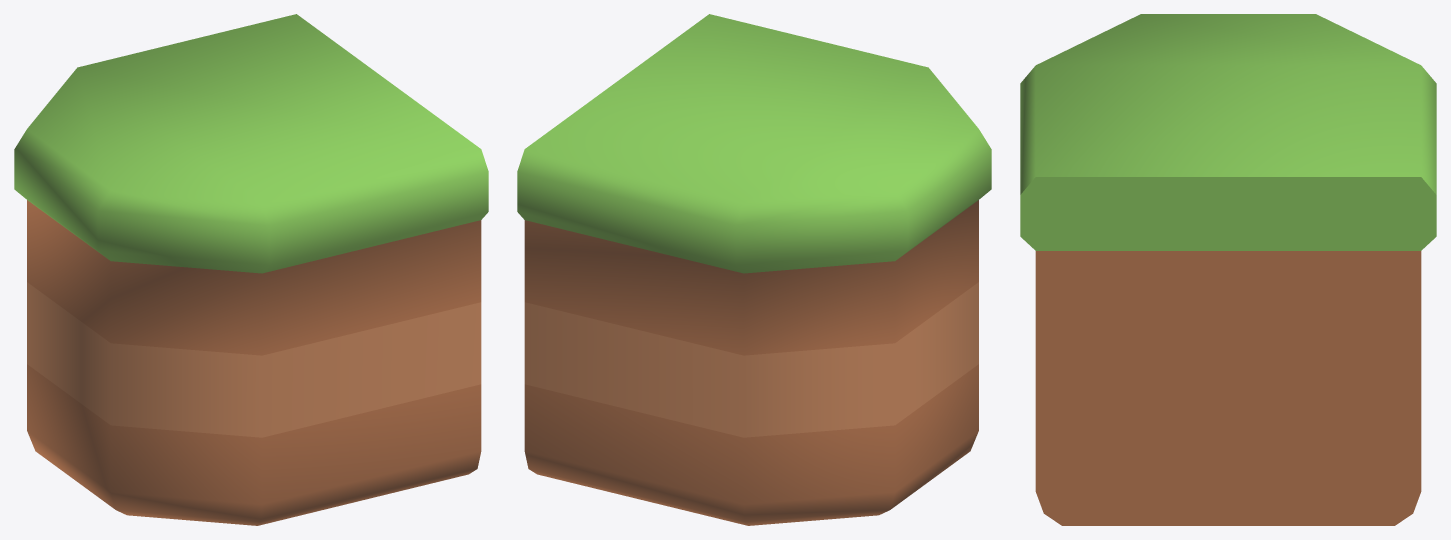
Rendered from small_left_tile.glb.
The picture shows the model from 3 angles, left to right: view 1: azimuth 30°, elevation 25°; view 2: azimuth 150°, elevation 25°; view 3: azimuth 270°, elevation 25°; orthographic projection. The views are drawn at different scales.
Parts seen in each view (by area): view 1: small_left_tile; view 2: small_left_tile; view 3: small_left_tile.
Part boxes in pixels (x1,y1,x2,y2): small_left_tile: (14, 14, 488, 525); small_left_tile: (517, 14, 991, 525); small_left_tile: (1020, 14, 1436, 525).
Bounding box in the file's own units: 0.52 × 0.4992 × 0.5398.
